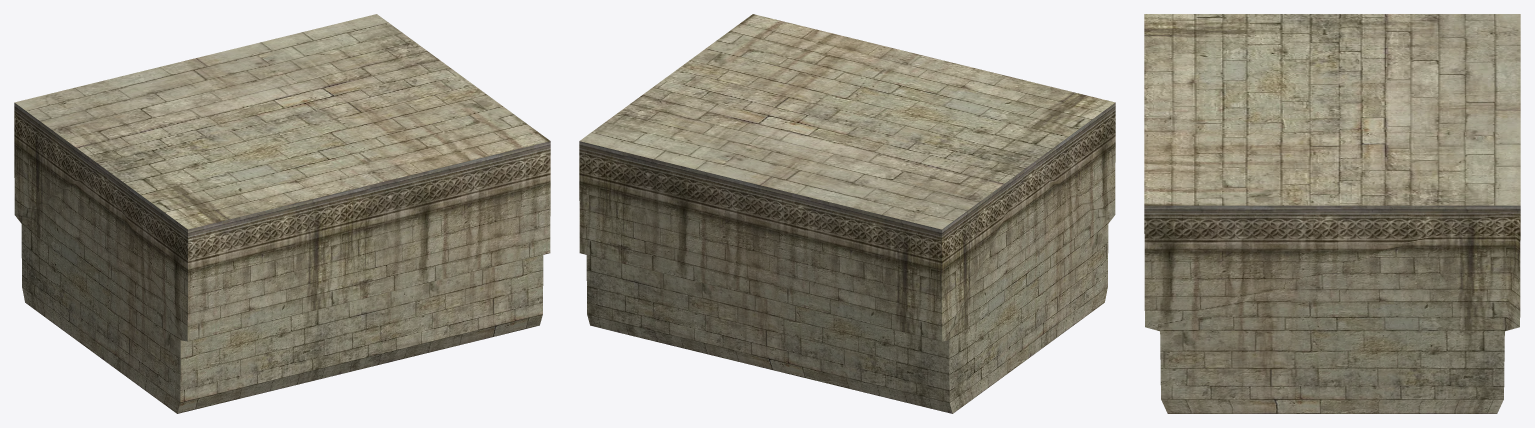
The model's file is TW2_5_TEMPLE_01_2-transformed.glb.
3 views of the same model, side by side, from view 1: azimuth 30°, elevation 25°; view 2: azimuth 150°, elevation 25°; view 3: azimuth 270°, elevation 25° (orthographic). The views are drawn at different scales.
Parts seen in each view (by area): view 1: default; view 2: default; view 3: default.
Boxes of the visible parts, x1,y1,x2,y2 form: default: (14,14,550,413); default: (579,14,1115,413); default: (1144,14,1520,413).
Size of the model in its own units: 6.8 by 3.45 by 5.64.
1 material, 1 textured.
